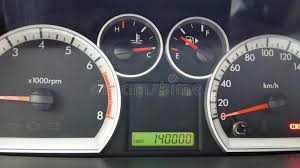Digital_Meter: (129, 131, 199, 153)
